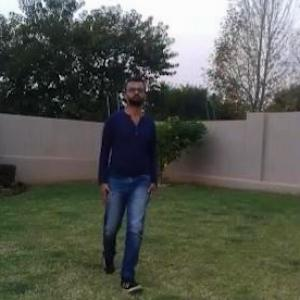follow: (96, 64, 161, 285)
